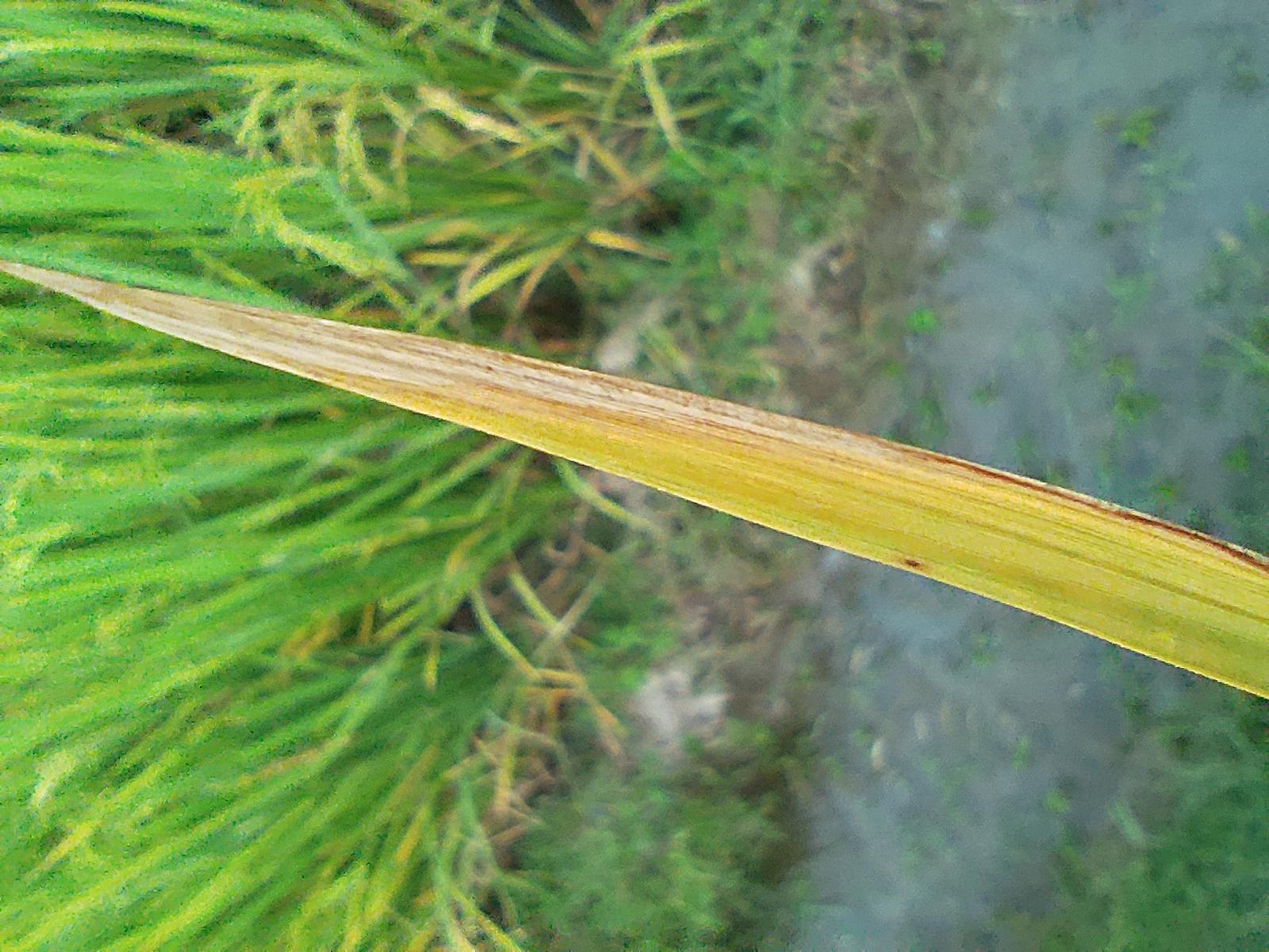BLB: (503, 0, 918, 951)
LEAF: (339, 0, 920, 951)
